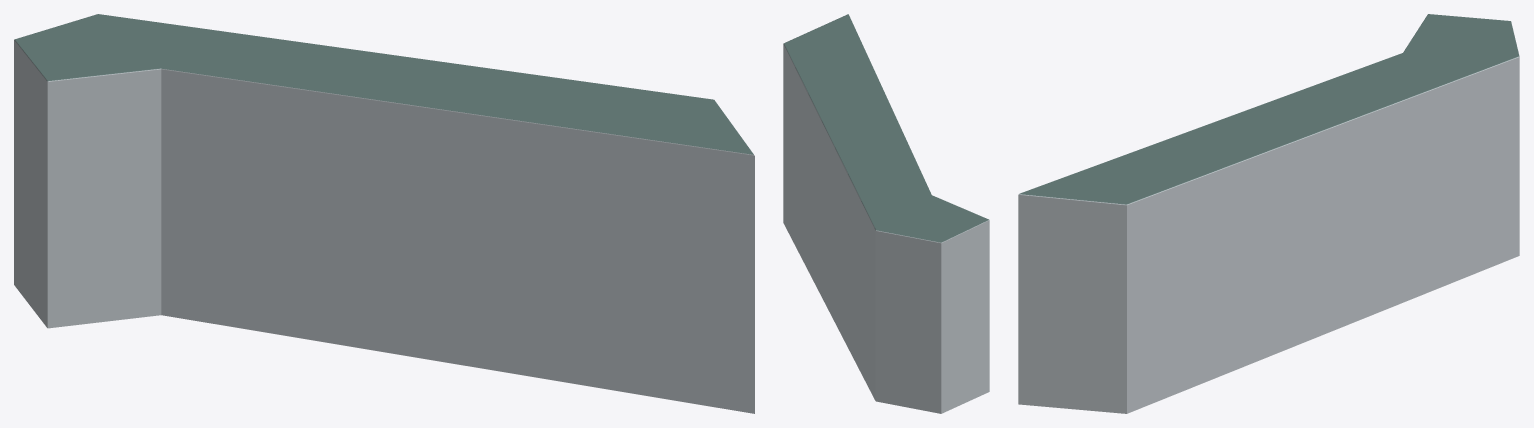
Rendered from intact.glb.
3 views of the same model, side by side, from view 1: azimuth 30°, elevation 25°; view 2: azimuth 150°, elevation 25°; view 3: azimuth 270°, elevation 25° (orthographic). The views are drawn at different scales.
Visible parts, largest first — view 1: SM_osm-468931896_Intact_00; view 2: SM_osm-468931896_Intact_00; view 3: SM_osm-468931896_Intact_00.
Boxes of the visible parts, bbox=[...] form: SM_osm-468931896_Intact_00: bbox=[14, 14, 754, 413]; SM_osm-468931896_Intact_00: bbox=[783, 14, 989, 413]; SM_osm-468931896_Intact_00: bbox=[1018, 14, 1519, 413].
Size of the model in its own units: 1.98 by 1.02 by 2.2.
